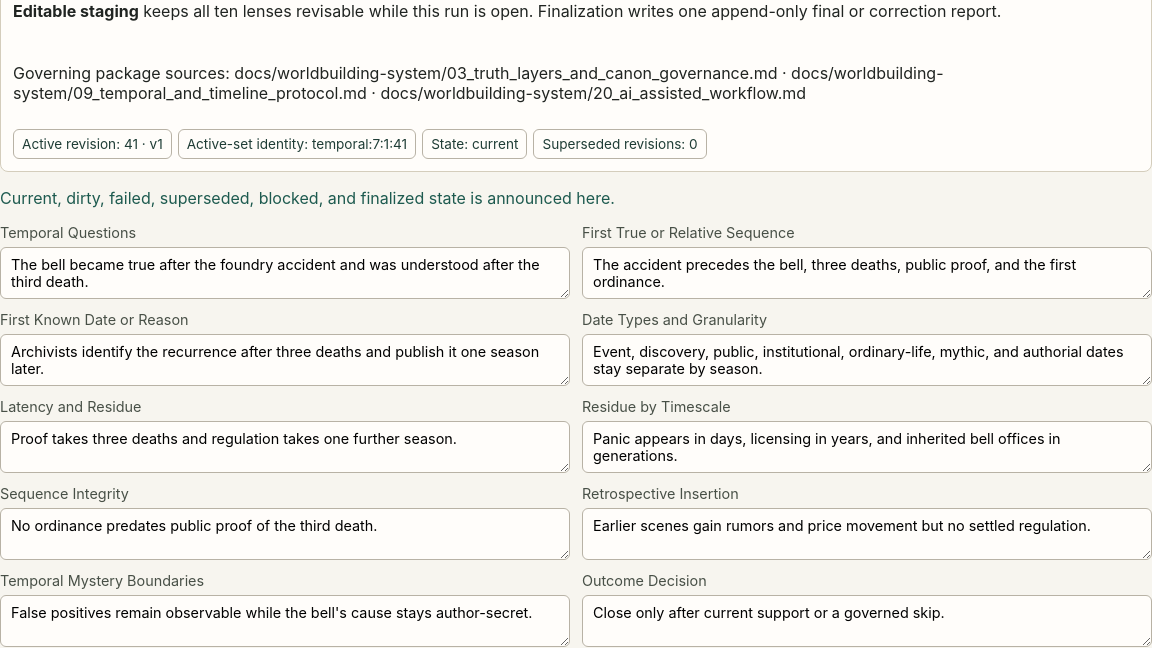
Scenario: TemporalRevisionWorkspace › preserves a refused four-lens draft, announces adjacent remediation, then discards to authoritative state with predictable focus
This screenshot has width=1152, height=648.
Replace the text in the text box labelled "First True or Relative Sequence" with "The accident precedes the bell, three deaths, proof, a failed hearing, and the ordinance." at {"x": 867, "y": 273}, box [582, 247, 1151, 299]
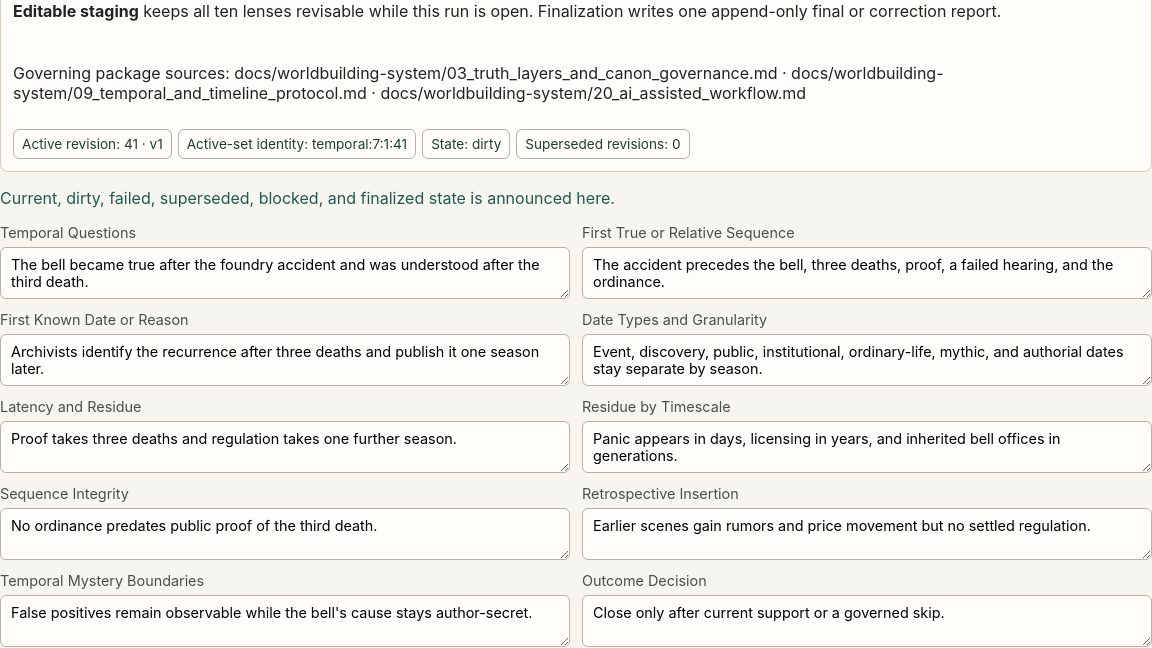
Replace the text in the text box labelled "Latency and Residue" with "A failed hearing adds a second season before regulation." at {"x": 285, "y": 447}, box [0, 421, 570, 473]
Replace the text in the text box labelled "Residue by Timescale" with "Hearing transcripts join licenses and inherited bell offices." at {"x": 867, "y": 447}, box [582, 421, 1151, 473]
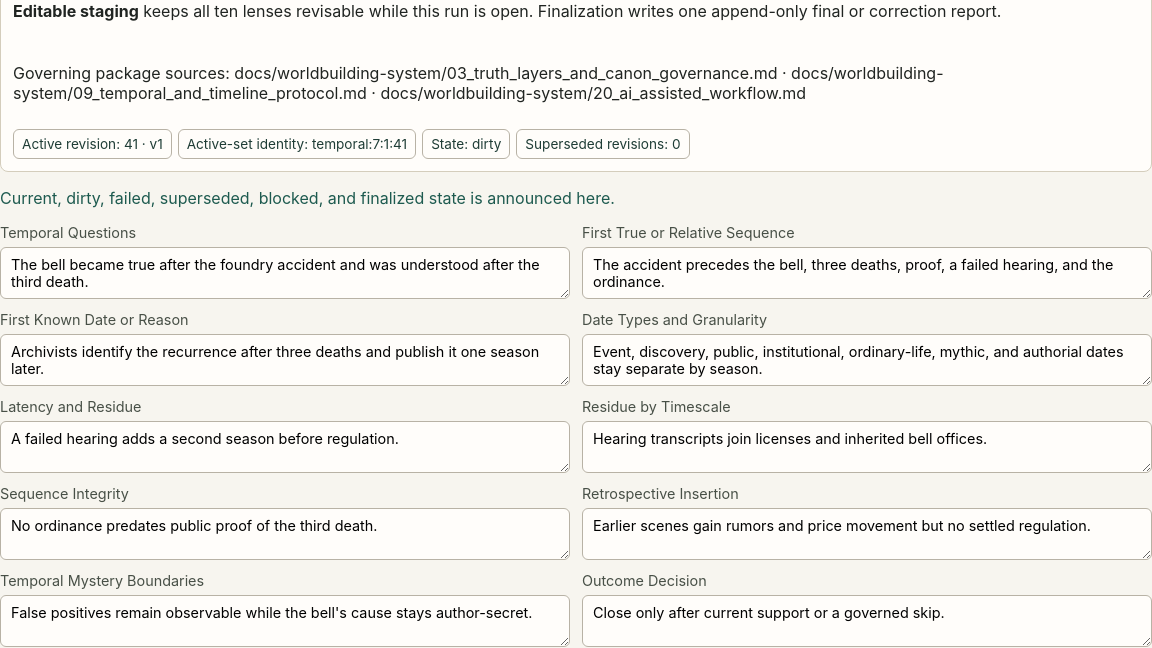
Replace the text in the text box labelled "Sequence Integrity" with "Public proof precedes the failed hearing, which precedes the ordinance." at {"x": 285, "y": 534}, box [0, 508, 570, 560]
(page scrolled)
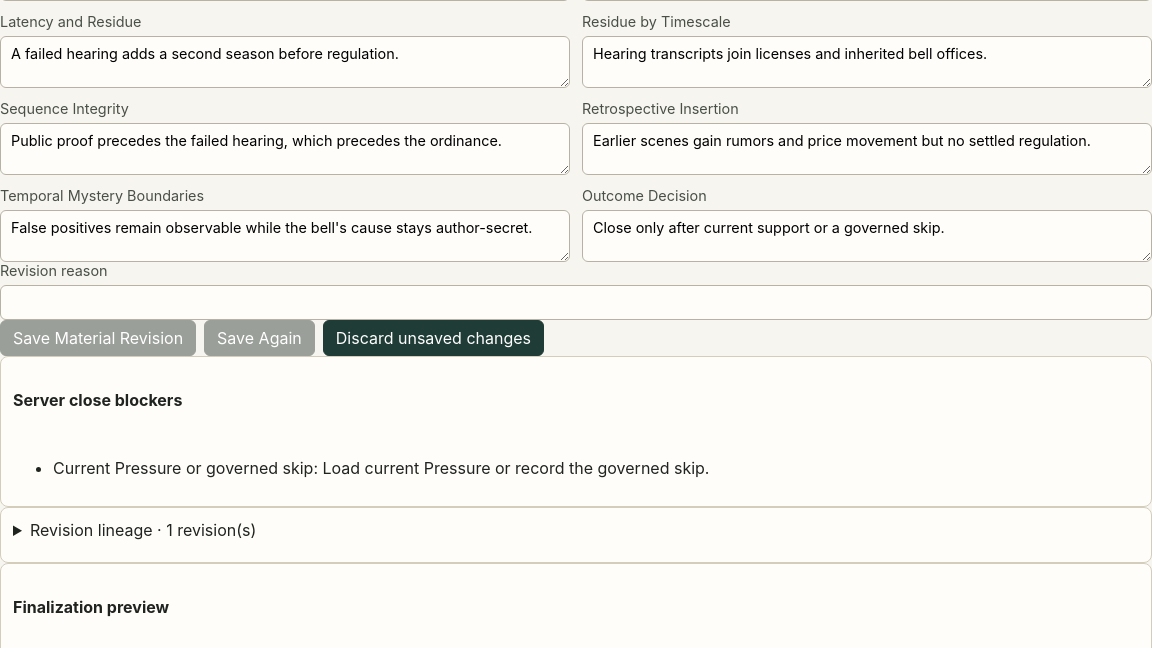
Type "Pressure exposed the missing hearing." into the field labelled "Revision reason" at {"x": 576, "y": 302}, box [0, 285, 1151, 320]
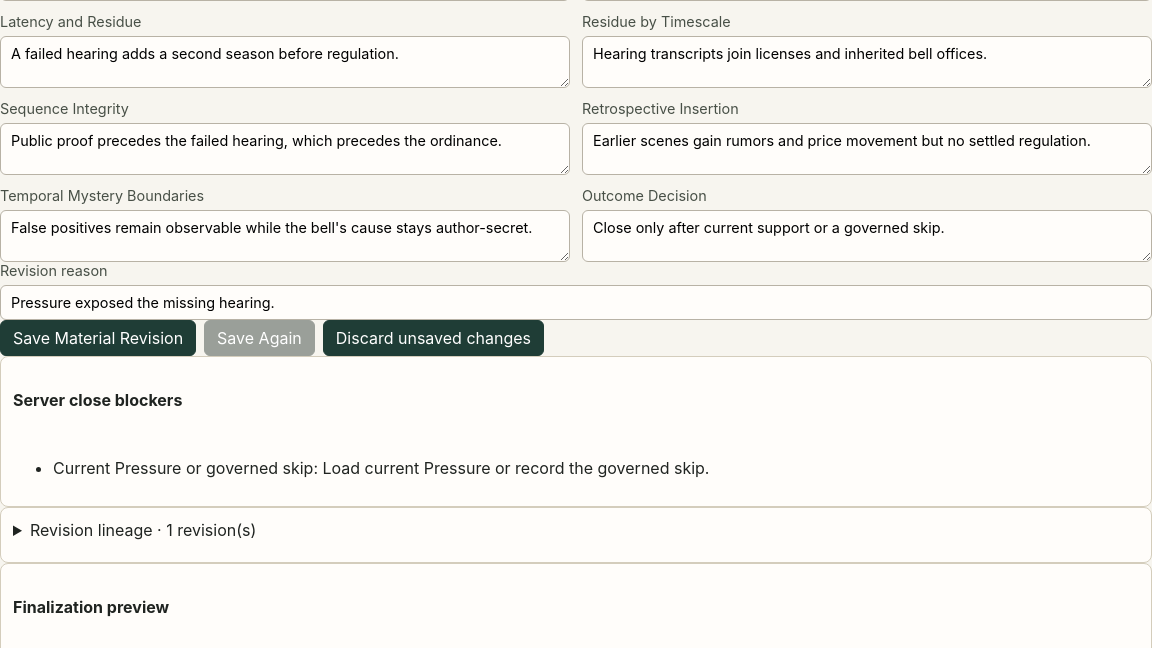
Click the button "Save Material Revision" at {"x": 98, "y": 338}, box [0, 320, 196, 356]
(page scrolled)
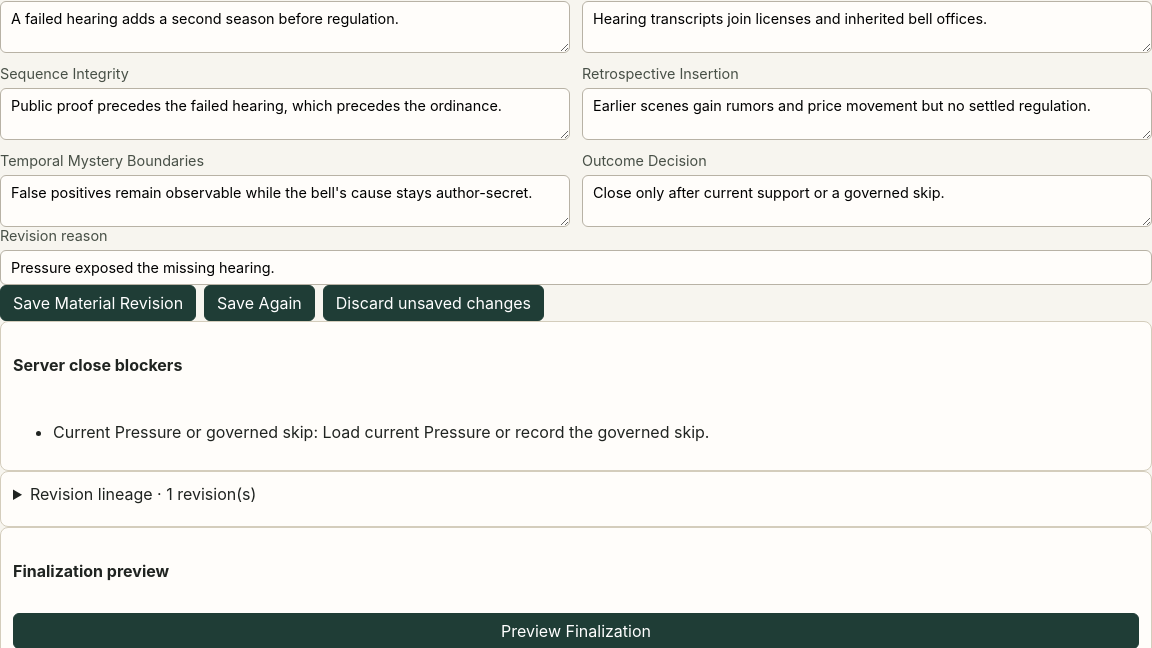
Click the button "Discard unsaved changes" at {"x": 433, "y": 302}, box [323, 284, 544, 320]
(page scrolled)
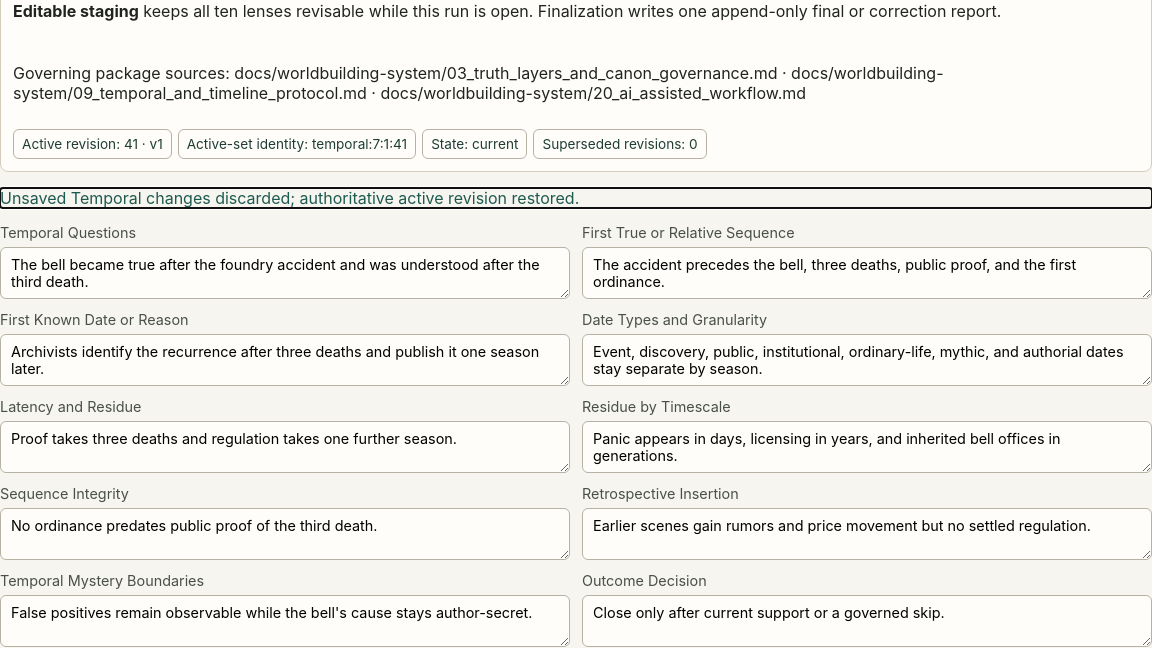
Expected: the message shows "authoritative active revision restored", [0, 188, 579, 208]
Expected: the text box labelled "First True or Relative Sequence" holds "The accident precedes the bell, three deaths, public proof, and the first ordinance.", [582, 247, 1151, 299]
Expected: the text box labelled "Latency and Residue" holds "Proof takes three deaths and regulation takes one further season.", [0, 421, 570, 473]
